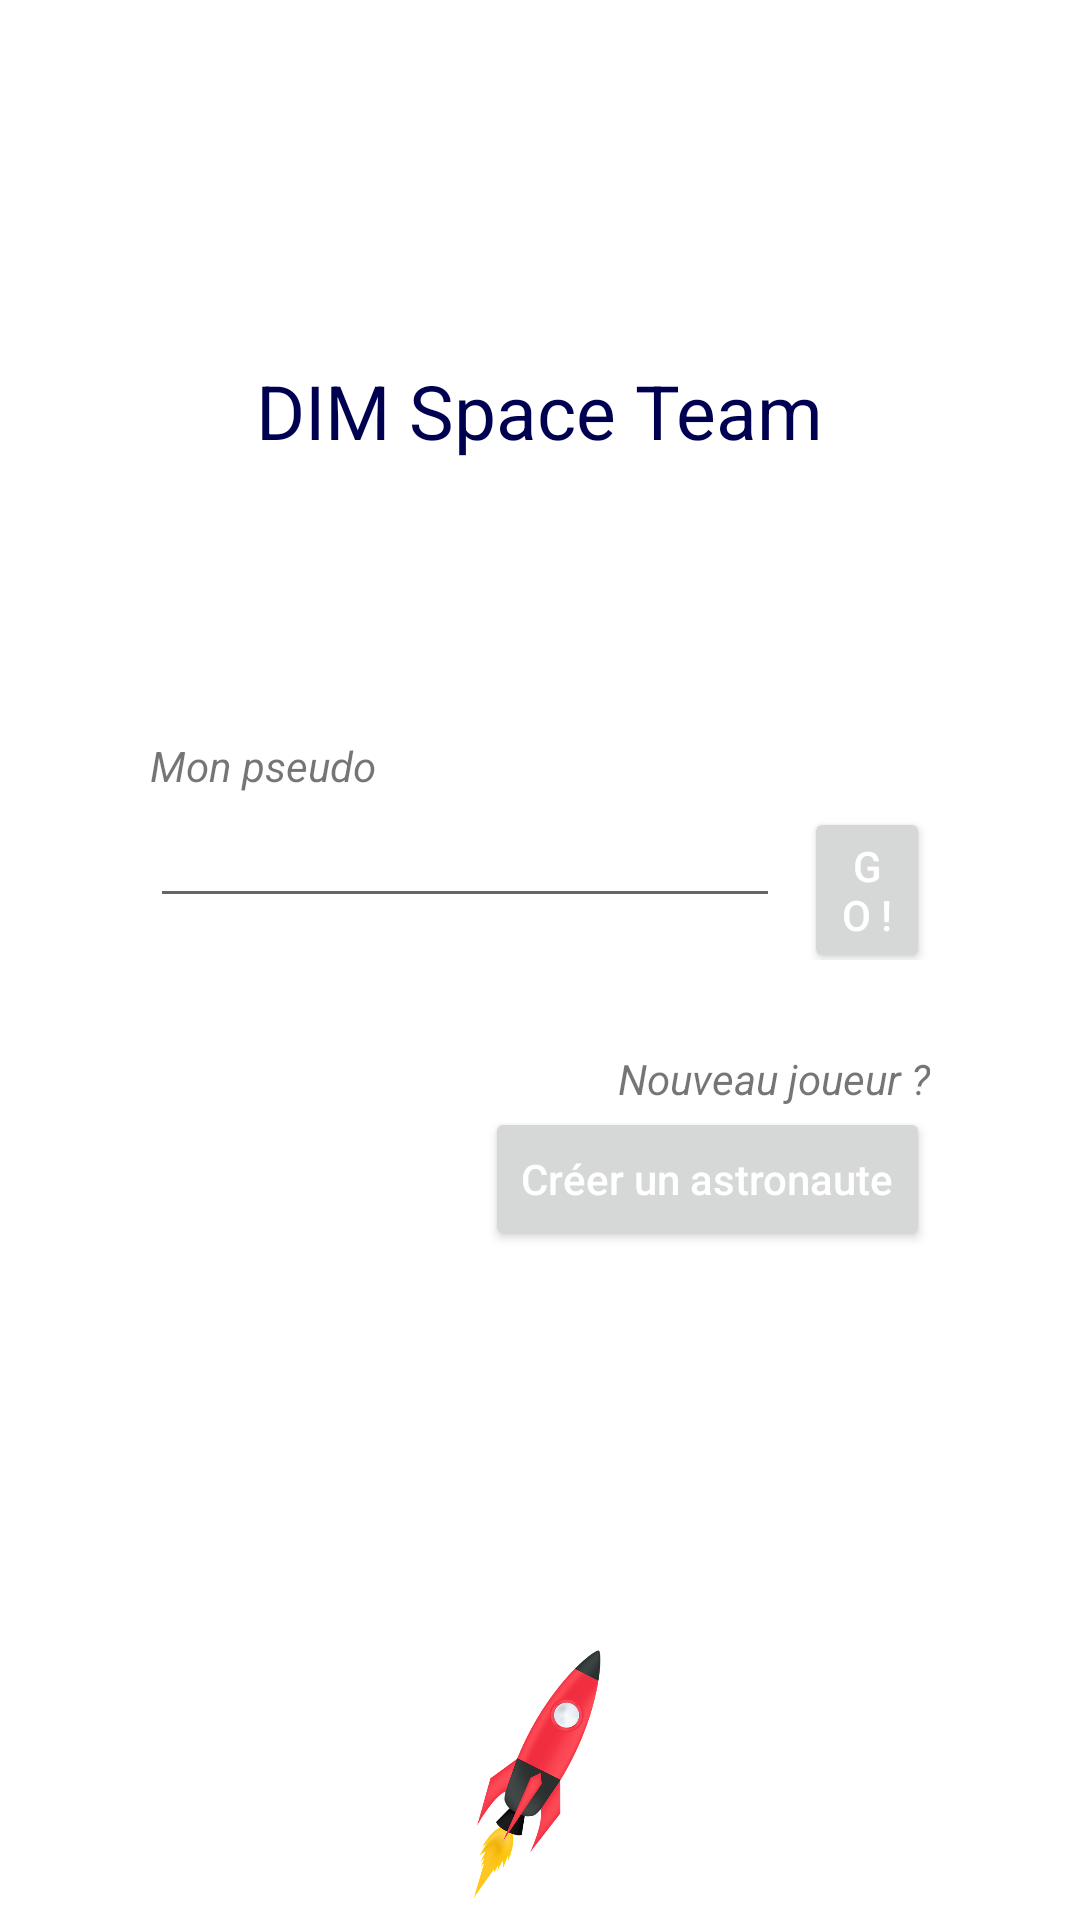

Icon bounding boxes for this 1080 × 1920 phone screenshot, format (x1, y1, x2, y2):
rocket: (474, 1650, 601, 1897)
